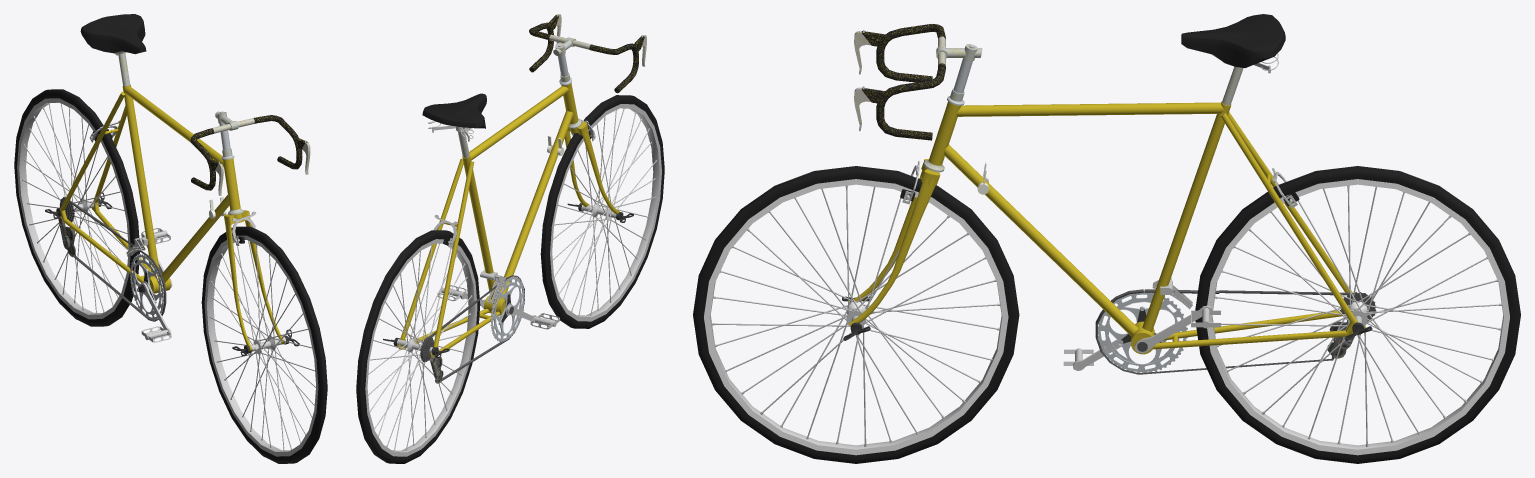
The model's file is Yellow_Road_Bike.dae.
The picture shows the model from 3 angles, left to right: view 1: azimuth 30°, elevation 25°; view 2: azimuth 150°, elevation 25°; view 3: azimuth 270°, elevation 25°; orthographic projection. The views are drawn at different scales.
Parts seen in each view (by area): view 1: Component_8 (×4), Component_7 (×4), group_11 (×4), Component_14, Component_1 (×2), group_7 (×2), Component_9, group_1, group_5; view 2: Component_8 (×4), Component_7 (×4), group_11 (×4), Component_1 (×2), Component_14, Component_9, group_1, group_7; view 3: Component_8 (×2), Component_7 (×4), group_11 (×3), Component_1 (×2), Component_14, Component_9, group_1, group_7.
Boxes of the visible parts, x1,y1,x2,y2 form: Component_8 (×4): (14,89,327,463); Component_7 (×4): (17,98,318,456); group_11 (×4): (122,84,302,283); Component_14: (80,14,146,54); Component_1 (×2): (60,91,151,282); group_7 (×2): (225,220,284,351); Component_9: (129,254,163,320); group_1: (59,197,166,321); group_5: (58,216,75,257); Component_8 (×4): (356,95,664,463); Component_7 (×4): (365,104,661,456); group_11 (×4): (462,22,638,302); Component_1 (×2): (398,159,500,357); Component_14: (422,93,486,128); Component_9: (490,276,524,341); group_1: (420,275,524,380); group_7: (582,127,619,214); Component_8 (×2): (693,167,1520,463); Component_7 (×4): (704,179,1509,455); group_11 (×3): (876,24,1231,335); Component_1 (×2): (1153,112,1365,349); Component_14: (1181,14,1285,67); Component_9: (1098,290,1187,372); group_1: (1095,289,1375,374); group_7: (849,177,935,326).
Bounding box in the file's own units: 11.54 × 67.58 × 38.82.
